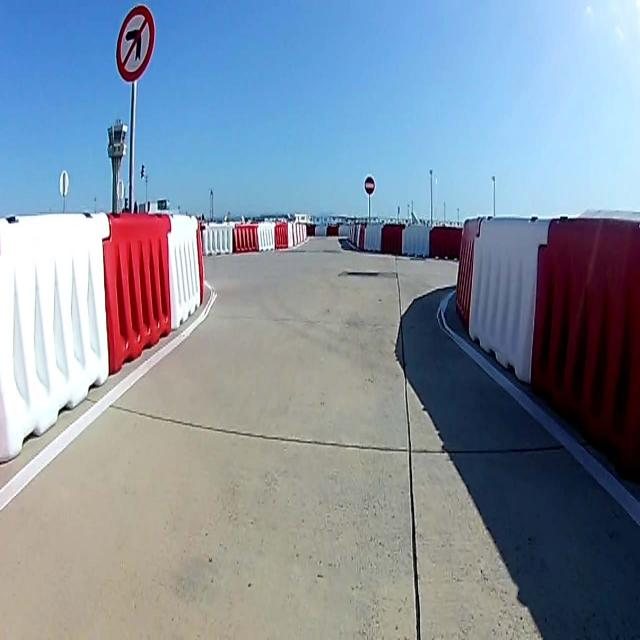girisyok: (363, 175, 375, 195)
soladonulmez: (117, 9, 153, 80)
